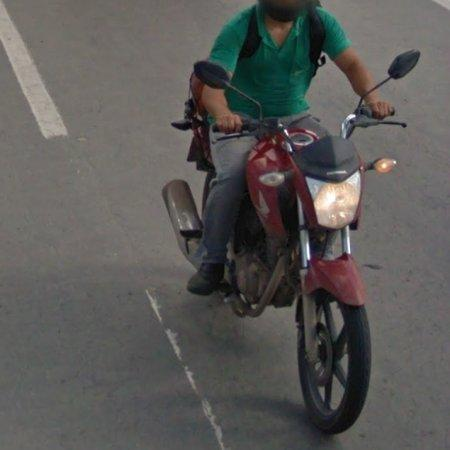motorcycles: (194, 50, 421, 435), (163, 180, 204, 265)
